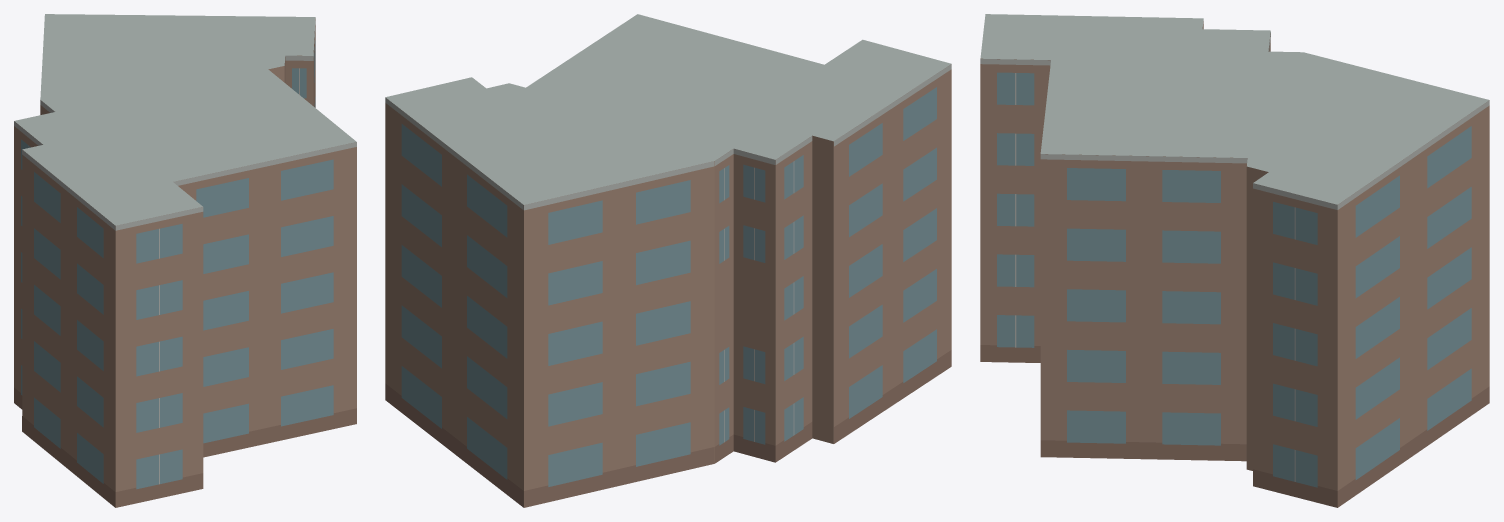
The model's file is survey-upis-32612114.glb.
3 renders of one model, left to right at view 1: azimuth 30°, elevation 25°; view 2: azimuth 150°, elevation 25°; view 3: azimuth 270°, elevation 25°, orthographic. The views are drawn at different scales.
Visible parts, largest first — view 1: survey-upis-32612114.tmp; view 2: survey-upis-32612114.tmp; view 3: survey-upis-32612114.tmp.
Boxes of the visible parts, x1,y1,x2,y2 form: survey-upis-32612114.tmp: [14, 14, 356, 507]; survey-upis-32612114.tmp: [385, 14, 951, 507]; survey-upis-32612114.tmp: [980, 14, 1489, 507].
Bounding box in the file's own units: 18.57 × 13.75 × 20.94.
